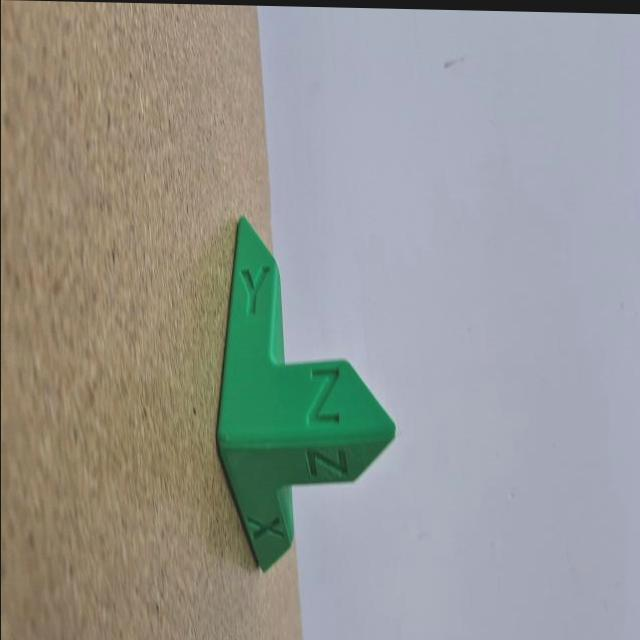eje: (210, 212, 402, 584)
